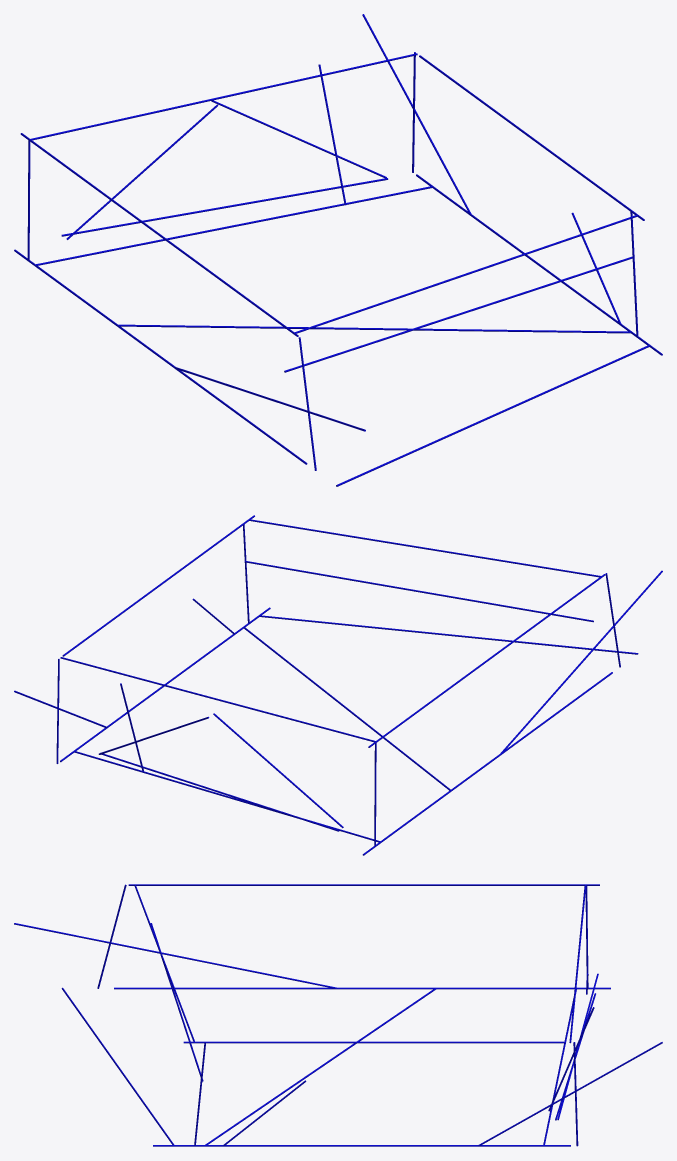
File: corrected_3d_strokes.glb
The picture shows the model from 3 angles, top to bottom: view 1: azimuth 30°, elevation 25°; view 2: azimuth 150°, elevation 25°; view 3: azimuth 270°, elevation 25°; orthographic projection. The views are drawn at different scales.
Visible parts, largest first — view 1: world; view 2: world; view 3: world.
Part boxes in pixels (<box>): world: <box>14,14,662,486</box>; world: <box>14,515,662,855</box>; world: <box>14,884,662,1146</box>.
Bounding box in the file's own units: 8.32 × 2.58 × 14.44.
